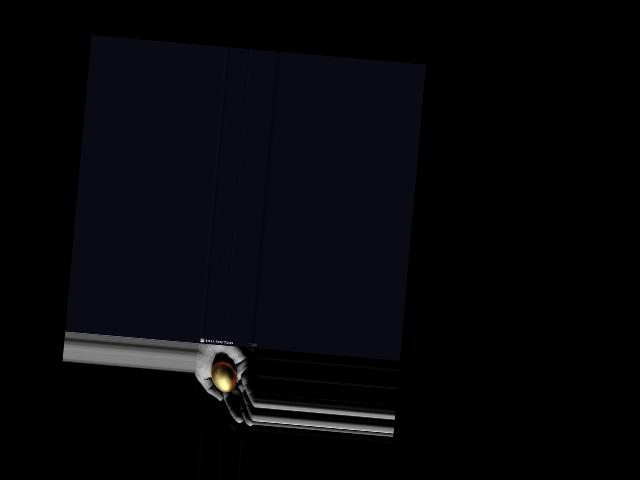egg: (210, 360, 238, 393)
